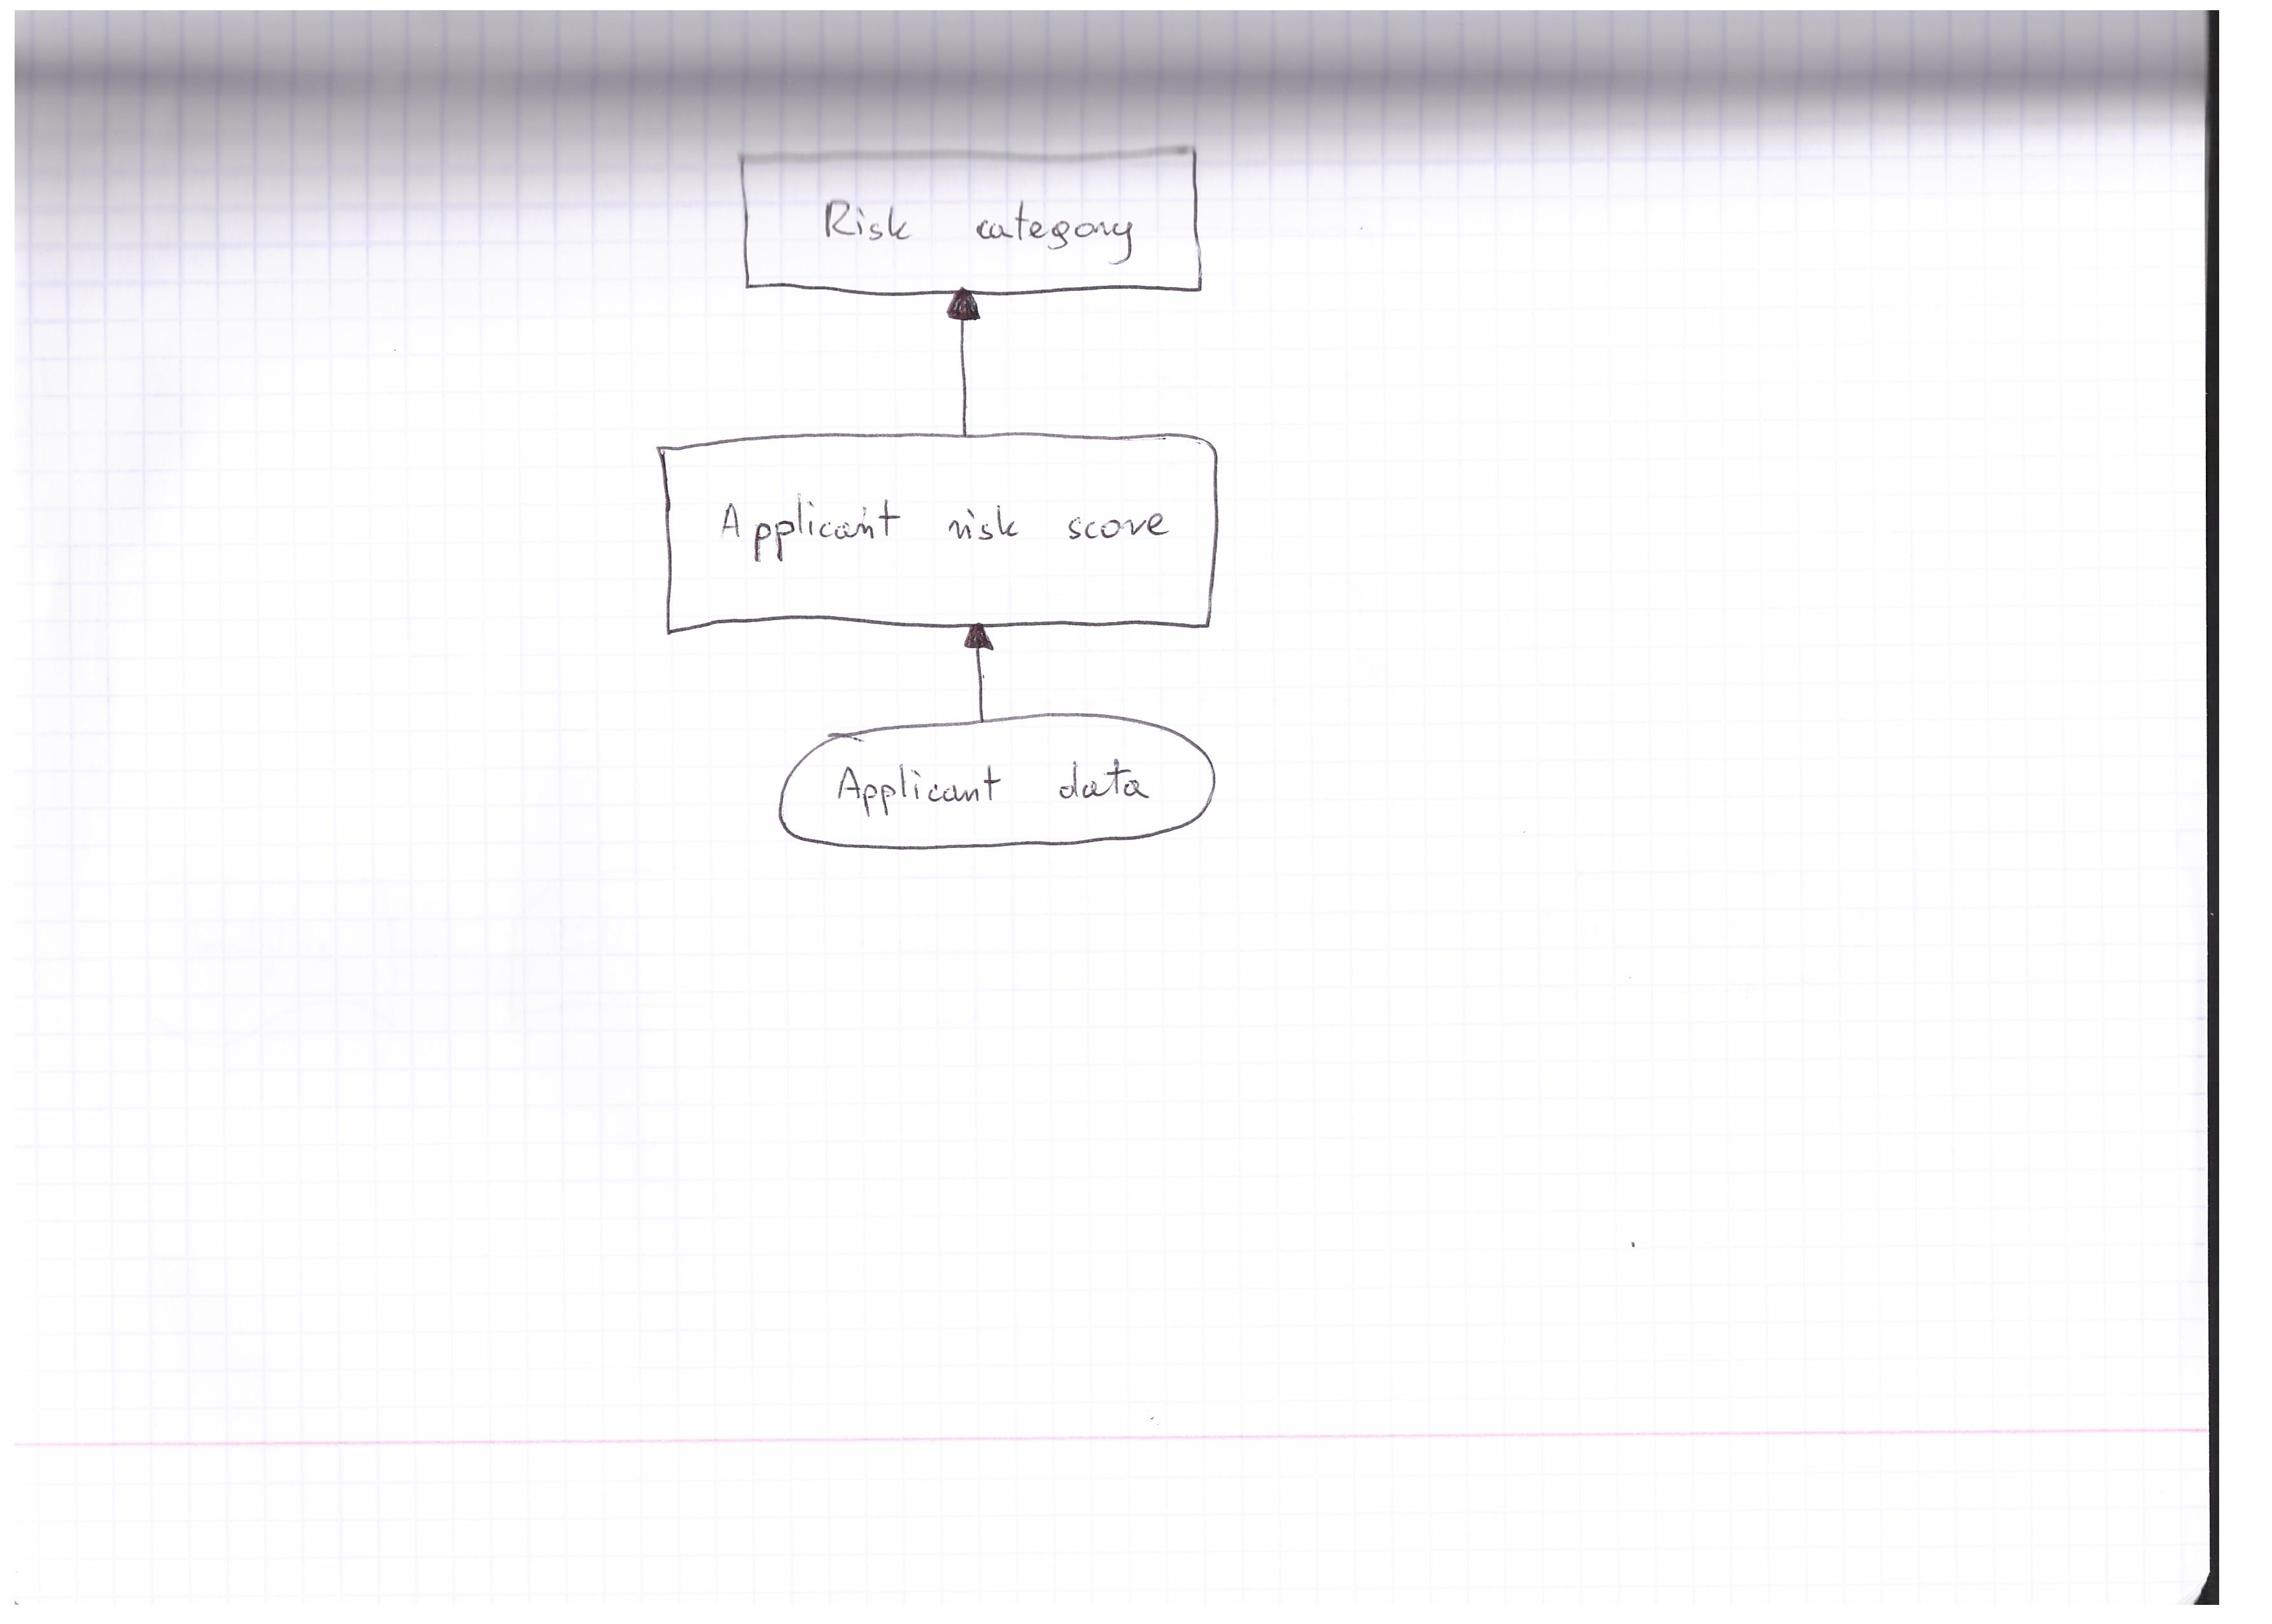arrow_information_requirement: (933, 286, 996, 432), (958, 620, 998, 715)
node_decision: (647, 424, 1226, 634), (724, 139, 1212, 304)
node_input_data: (752, 708, 1234, 870)
text: (710, 480, 1179, 582), (810, 190, 1149, 271), (833, 749, 1169, 824)
